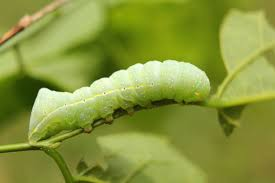Caterpillar: (27, 57, 212, 145)
